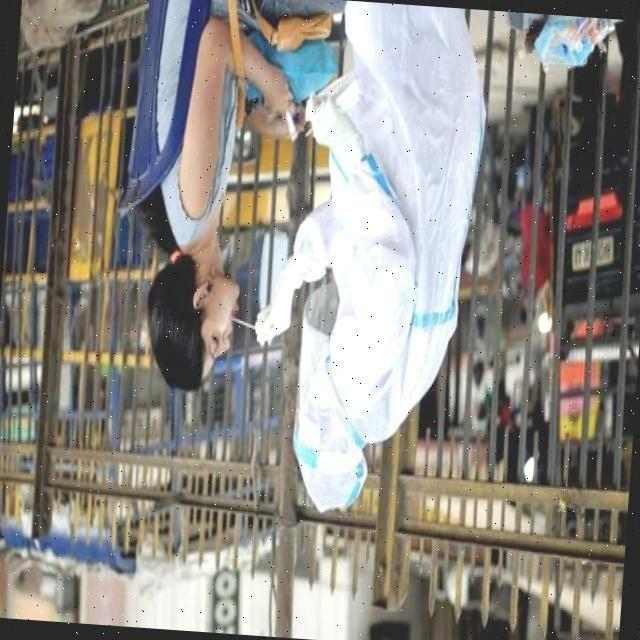apron: (299, 88, 362, 166), (243, 278, 308, 348)
gloves: (151, 286, 203, 396)
no_apron: (265, 63, 301, 121)
no_gloves: (298, 466, 367, 521)
no_hairnet: (206, 278, 244, 328)
